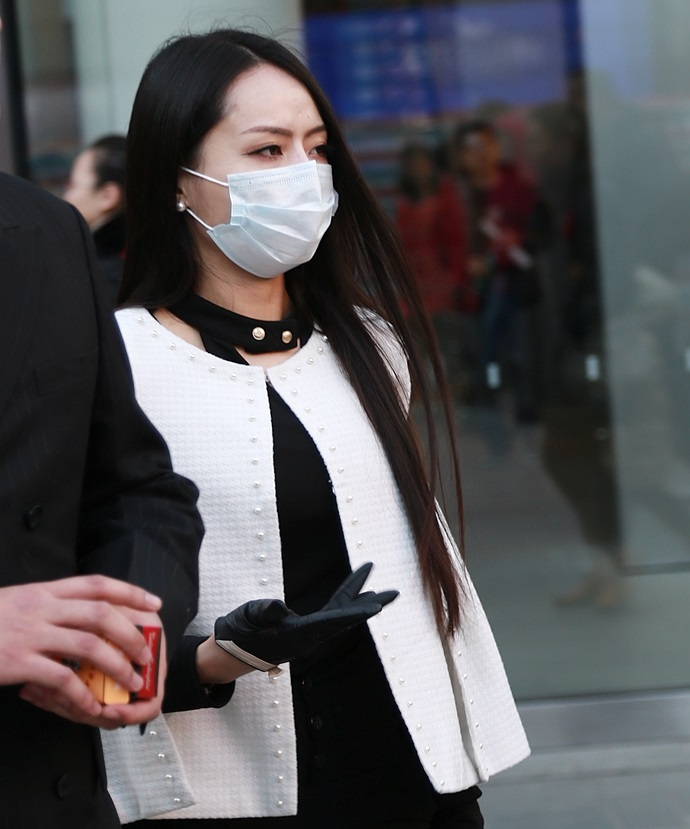face: (66, 153, 106, 230)
face_mask: (194, 67, 331, 275)
